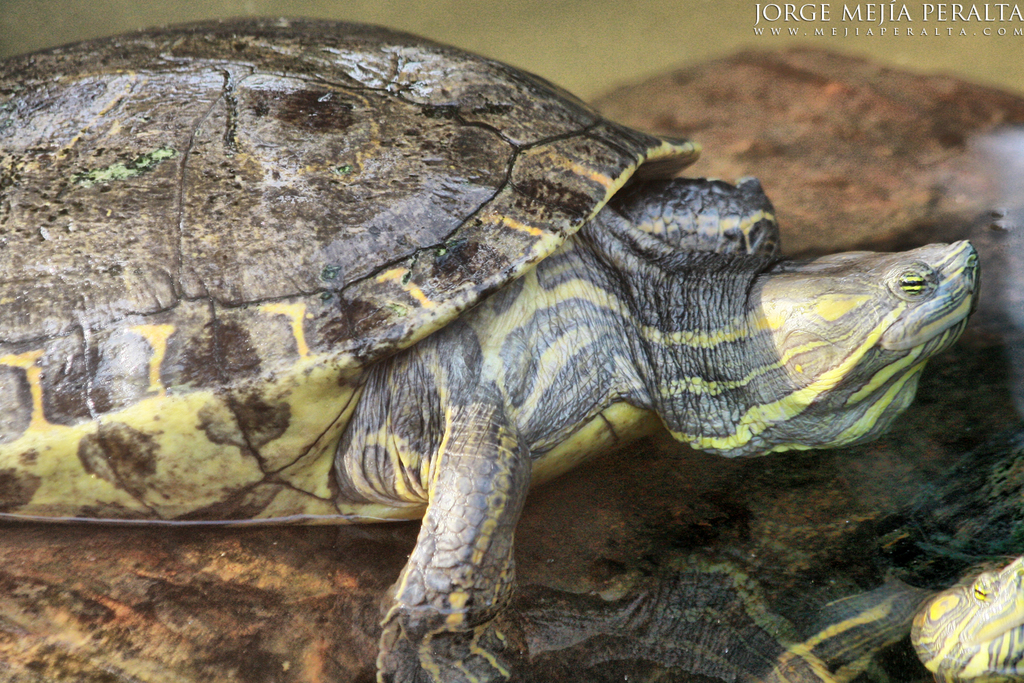Sea turtles: (0, 12, 980, 633), (573, 553, 1024, 683)
